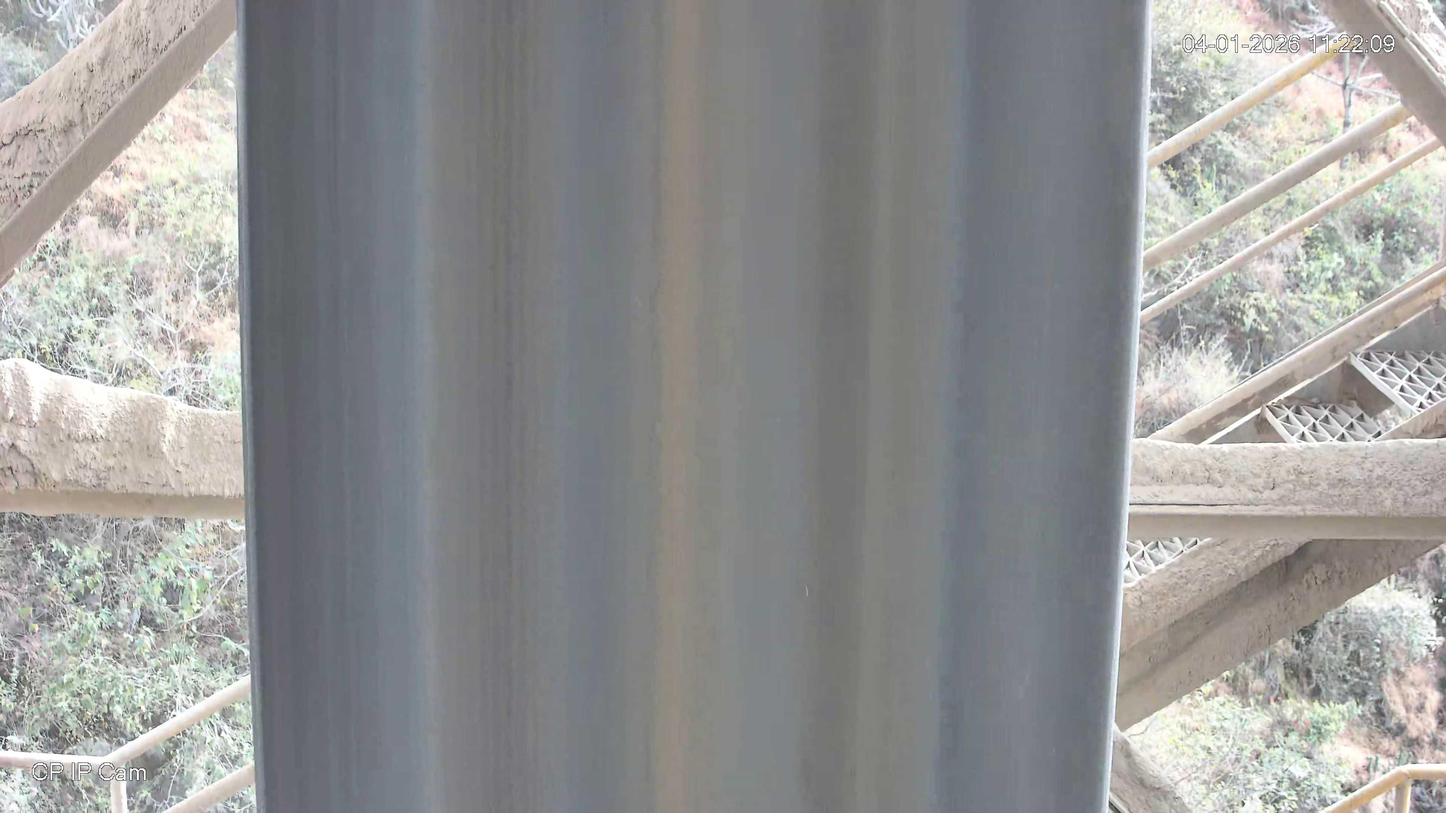belt_roi: (239, 0, 1156, 813)
